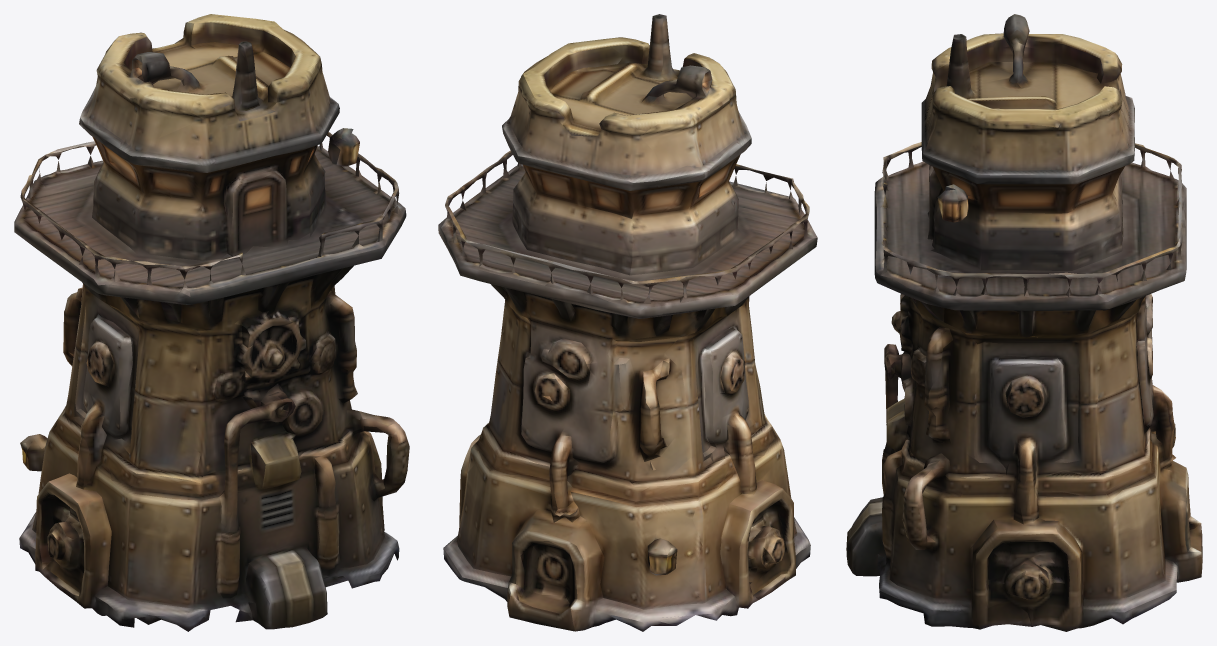
File: Brasswake command tower.glb
3 renders of one model, left to right at view 1: azimuth 30°, elevation 25°; view 2: azimuth 150°, elevation 25°; view 3: azimuth 270°, elevation 25°, orthographic. The views are drawn at different scales.
Parts seen in each view (by area): view 1: Watchtower; view 2: Watchtower; view 3: Watchtower.
Boxes of the visible parts, box(x1,y1,x2,y2) form: Watchtower: box(14, 14, 409, 631); Watchtower: box(438, 14, 817, 631); Watchtower: box(846, 14, 1202, 631).
Bounding box in the file's own units: 1.95 × 3.2 × 1.96.
Materials: 1 (1 with a texture image).
